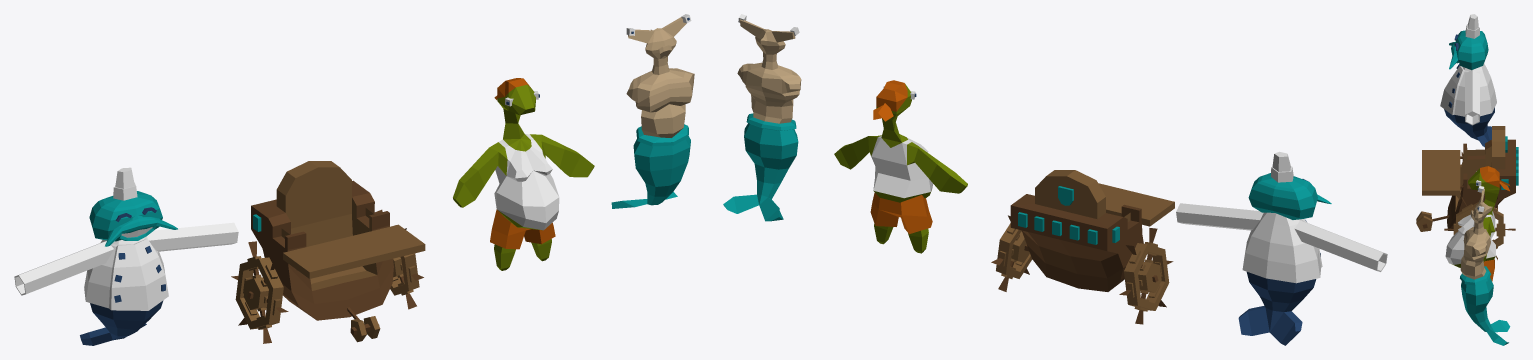
The model's file is characters_npc.fbx.
3 views of the same model, side by side, from view 1: azimuth 30°, elevation 25°; view 2: azimuth 150°, elevation 25°; view 3: azimuth 270°, elevation 25° (orthographic). The views are drawn at different scales.
Visible parts, largest first — view 1: rolstoel_boogman, kok, boogman, smid; view 2: rolstoel_boogman, kok, boogman, smid; view 3: rolstoel_boogman, kok, smid, boogman.
Part boxes in pixels (x1,y1,x2,y2): rolstoel_boogman: [231, 161, 425, 343]; kok: [14, 167, 238, 345]; boogman: [453, 78, 594, 270]; smid: [611, 14, 694, 208]; rolstoel_boogman: [991, 170, 1174, 324]; kok: [1176, 151, 1387, 345]; boogman: [834, 80, 967, 253]; smid: [723, 14, 801, 221]; rolstoel_boogman: [1416, 126, 1518, 259]; kok: [1440, 14, 1496, 147]; smid: [1460, 185, 1510, 345]; boogman: [1445, 166, 1509, 281].
Bounding box in the file's own units: 18.07 × 5.45 × 3.27.
